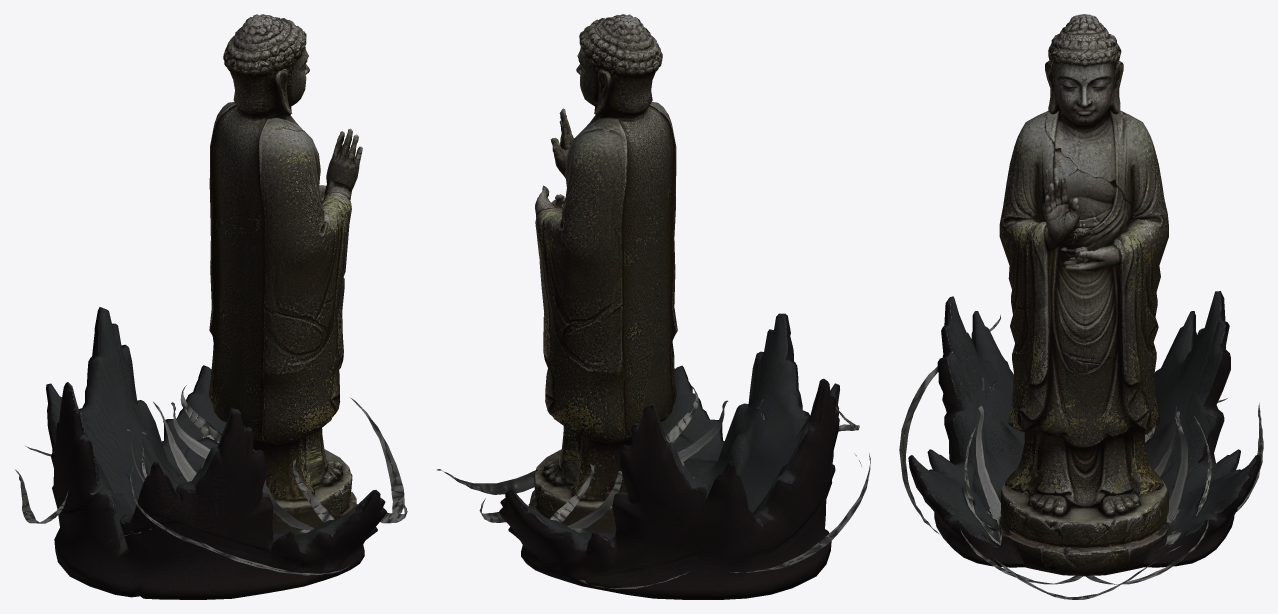
Rendered from tripo_convert_79596d4e-7a2e-47a3-a28d-1419e87643af.fbx.
The picture shows the model from 3 angles, left to right: view 1: azimuth 30°, elevation 25°; view 2: azimuth 150°, elevation 25°; view 3: azimuth 270°, elevation 25°; orthographic projection.
Visible parts, largest first — view 1: tripo_node_79596d4e; view 2: tripo_node_79596d4e; view 3: tripo_node_79596d4e.
Part boxes in pixels (bbox=[...]): tripo_node_79596d4e: bbox=[15, 14, 407, 599]; tripo_node_79596d4e: bbox=[436, 14, 870, 599]; tripo_node_79596d4e: bbox=[899, 14, 1263, 599].
Bounding box in the file's own units: 0.7598 × 0.998 × 0.6309.
1 material, 1 textured.
